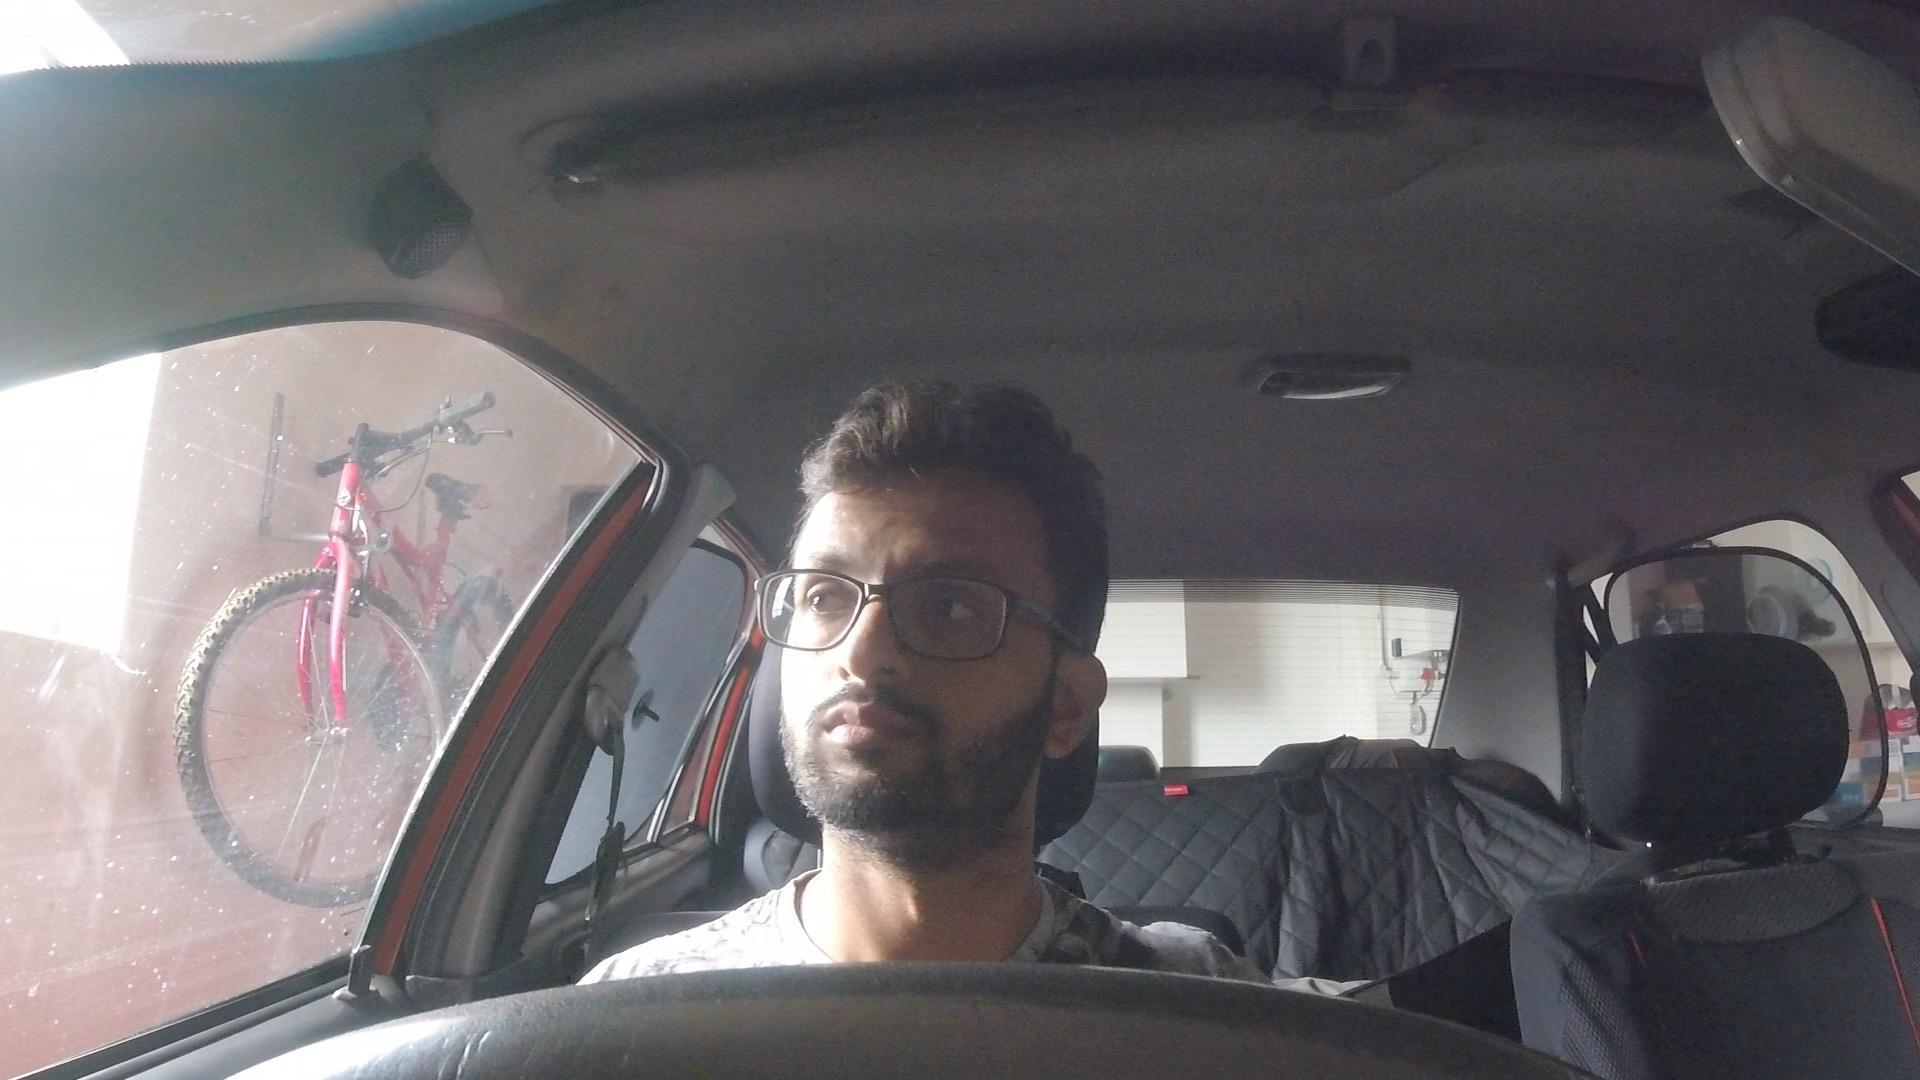SafeDriving: (754, 376, 1112, 844)
